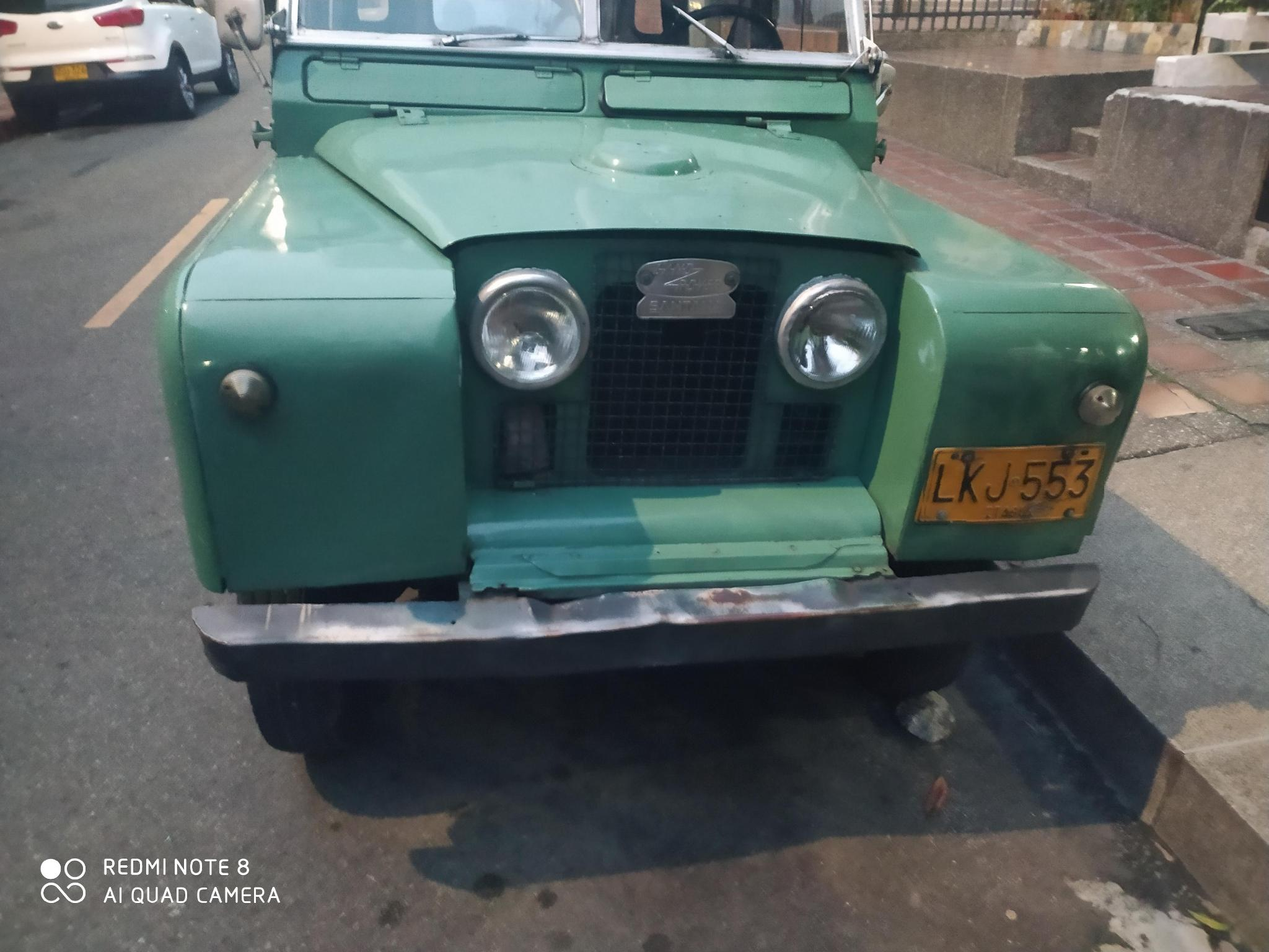placa: (919, 436, 1104, 536)
